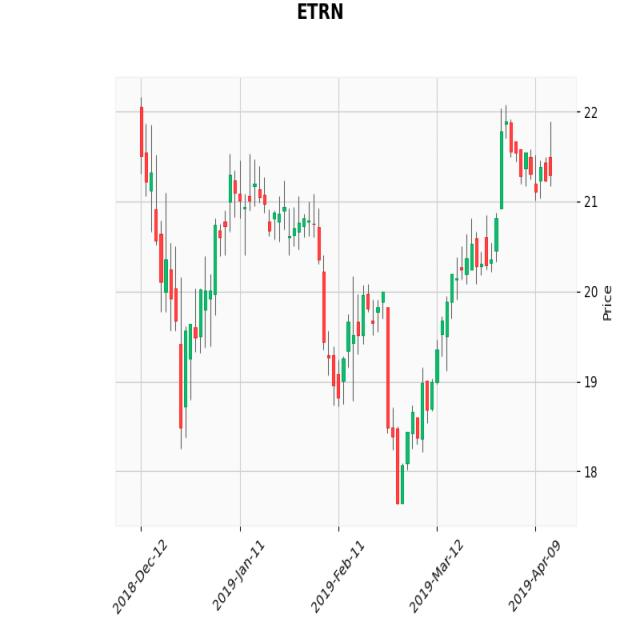Inverse-Head-Shoulders: (294, 100, 526, 512)
